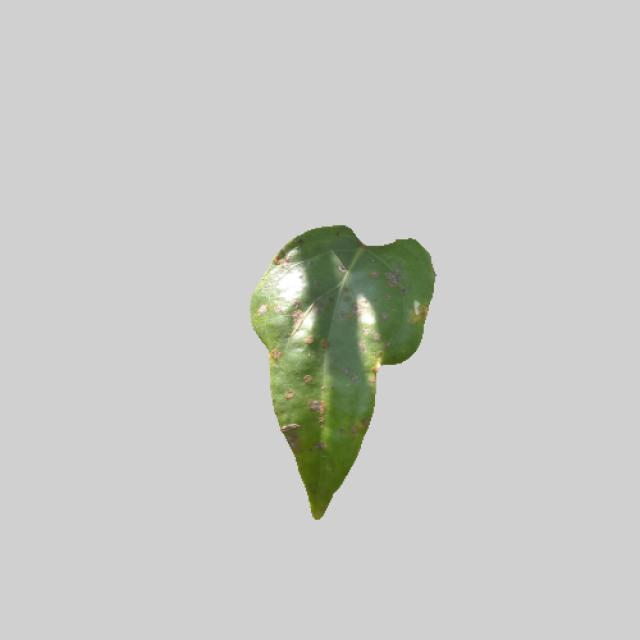yellow-mottle-virus: (237, 221, 436, 518)
